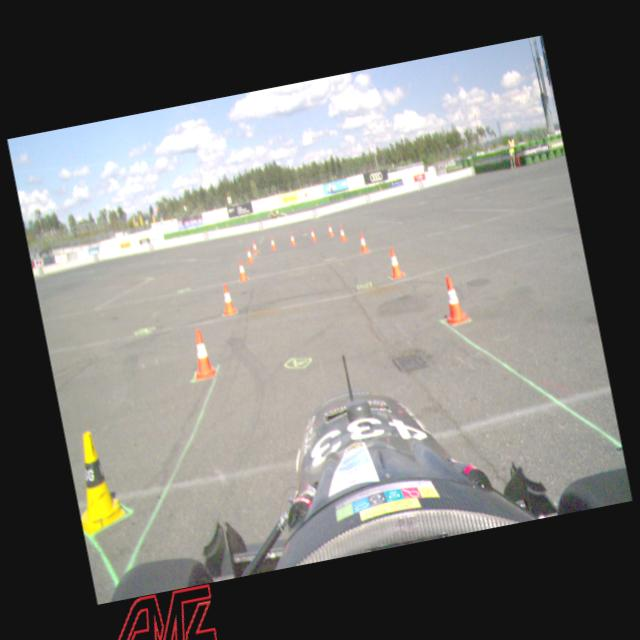orange_cone: (185, 326, 218, 382), (439, 272, 470, 326), (386, 246, 406, 280), (218, 283, 238, 316), (234, 259, 248, 282), (356, 232, 369, 254), (244, 246, 255, 265), (338, 225, 348, 242), (268, 236, 278, 252), (326, 222, 335, 238), (288, 232, 297, 247), (308, 228, 317, 243), (251, 239, 259, 255)
yellow_cone: (66, 426, 129, 536)
